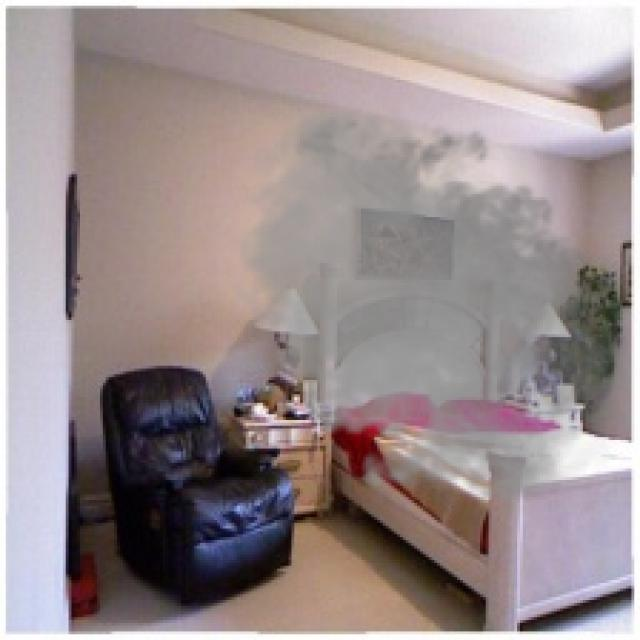Smoke: (225, 103, 638, 520)
